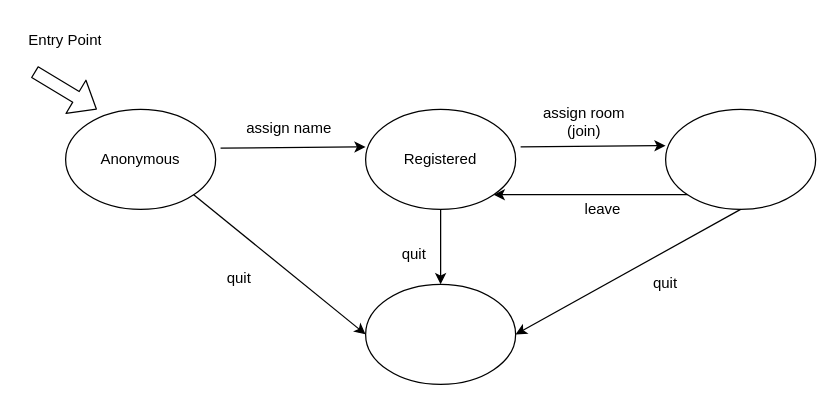
Some shapes in this 838 by 406 pixel diagram are drawn without their labels. The box of each missing label's shape, as (x1, y1, x2, y2) in pixels:
Logoff: (364, 283, 516, 384)
Session: (664, 108, 816, 209)
